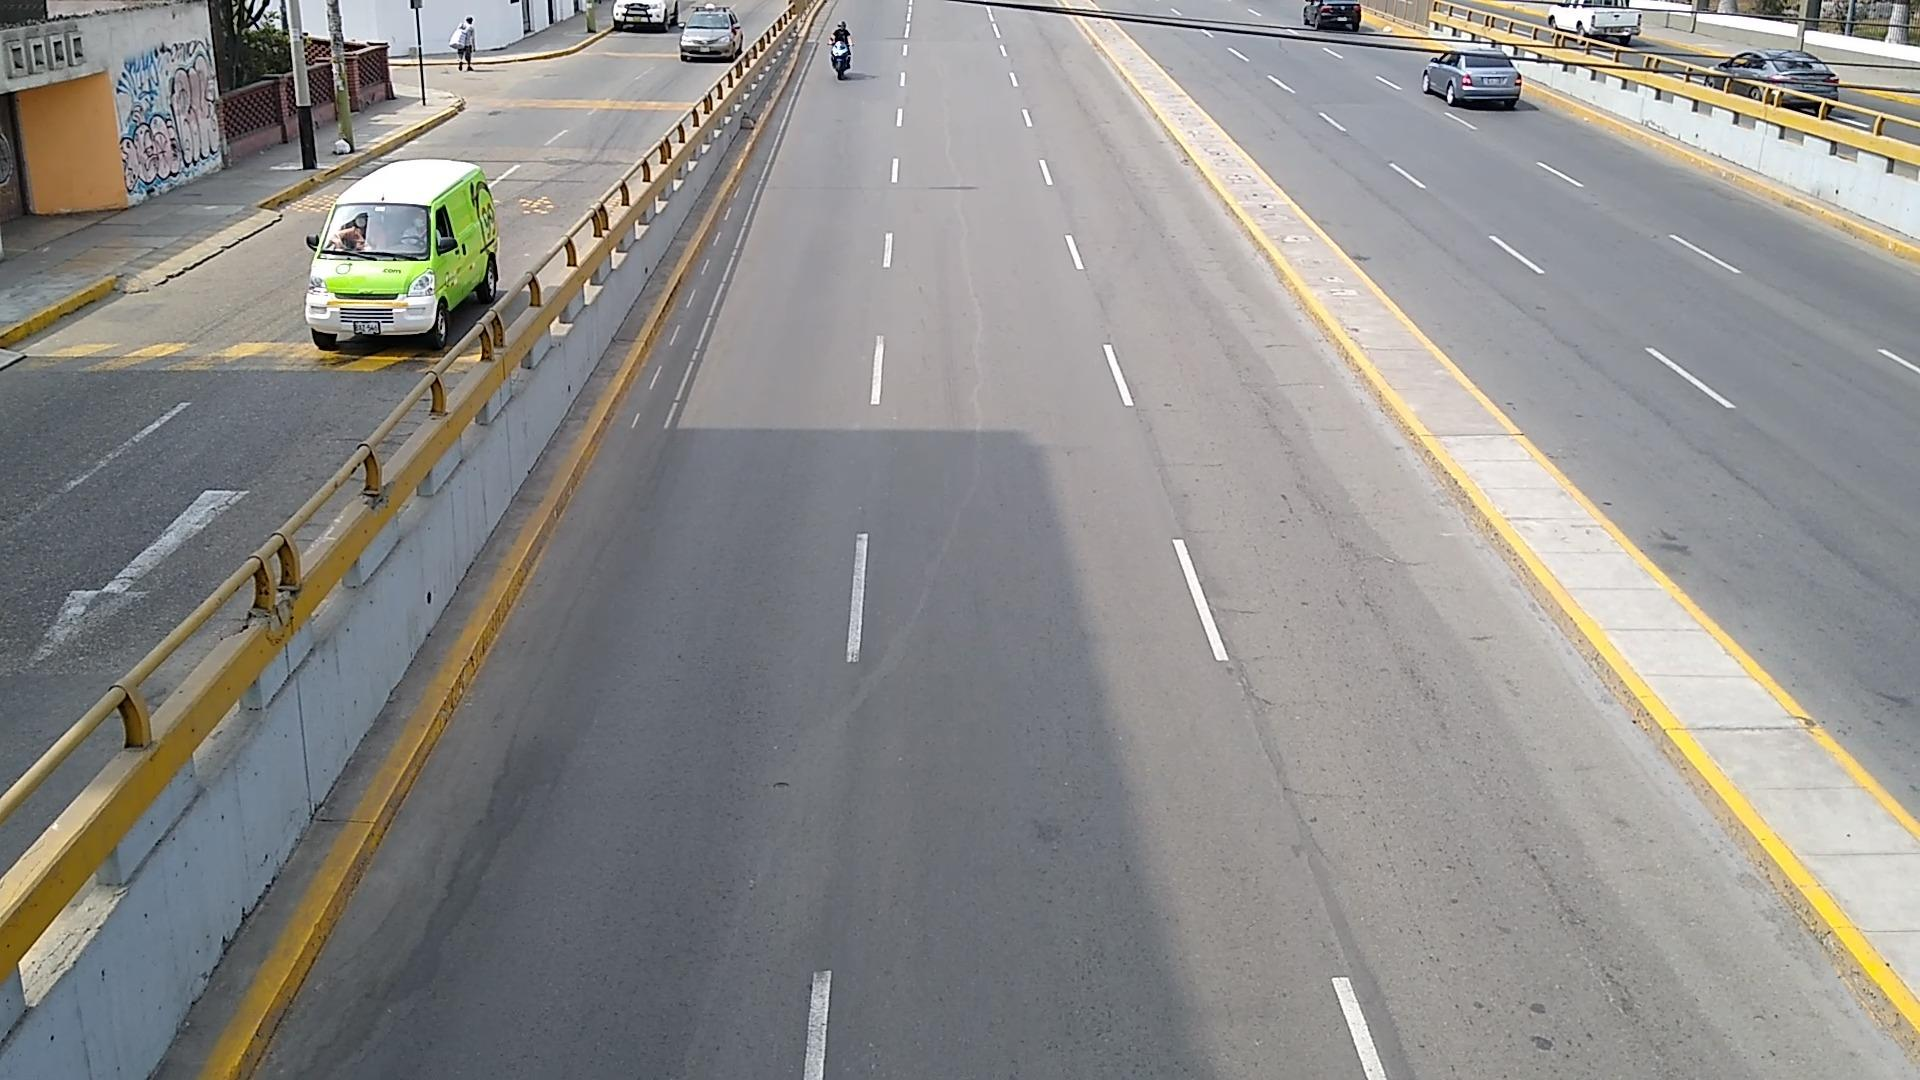car: (1710, 49, 1838, 112), (1421, 49, 1519, 109), (1549, 0, 1639, 45), (679, 8, 742, 60), (611, 0, 679, 30), (1305, 0, 1361, 30)
minivan: (304, 161, 499, 352)
motorcyclist: (829, 22, 851, 79)
person: (450, 19, 476, 69)
